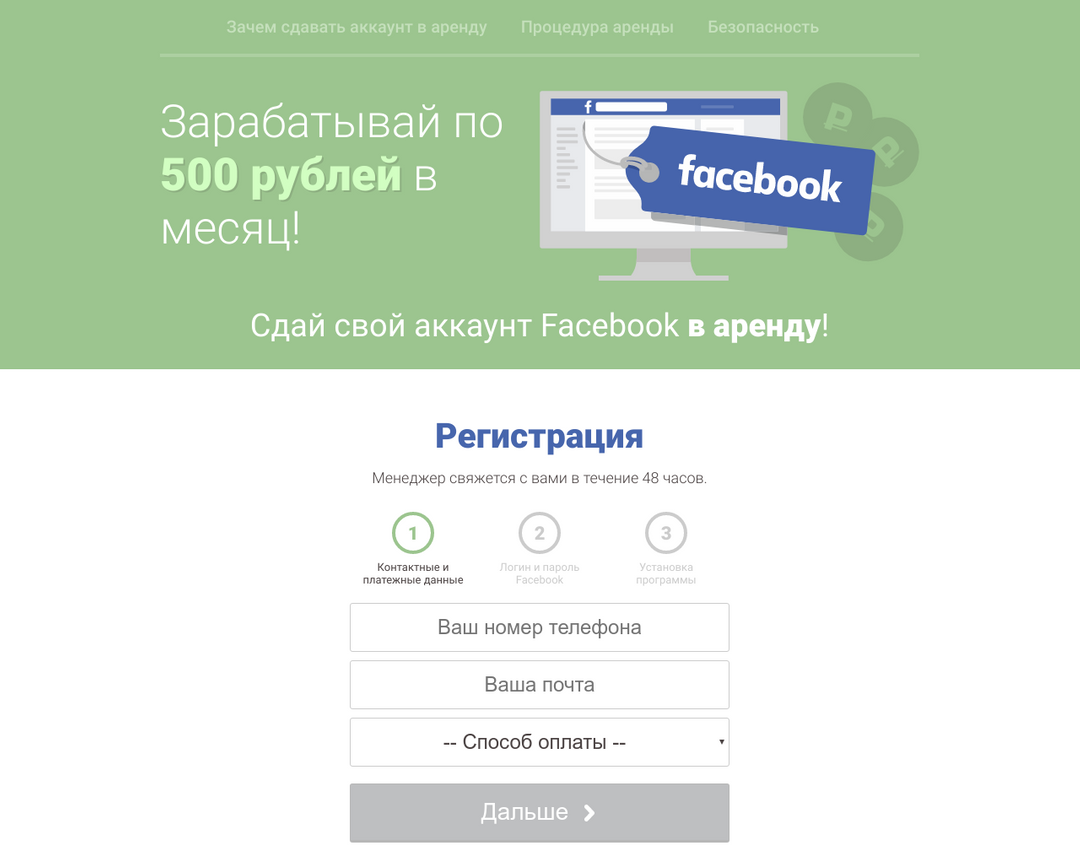Facebook: (673, 149, 847, 208)
